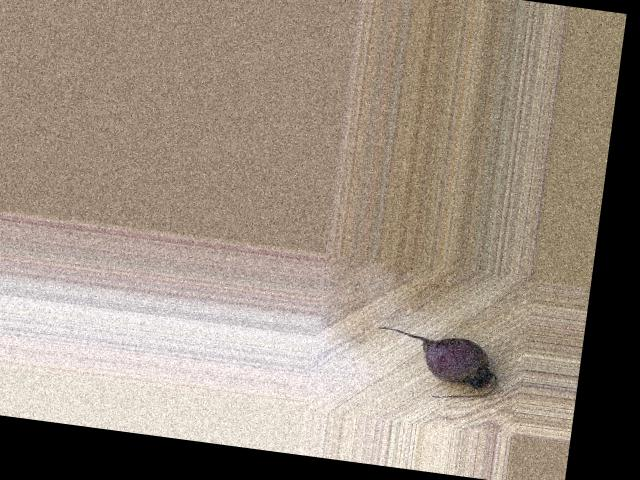beet: (368, 325, 502, 404)
